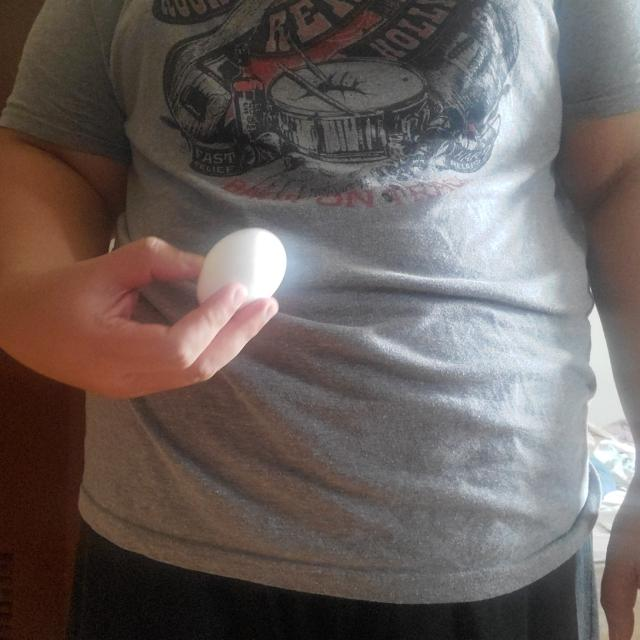egg: (195, 227, 288, 308)
